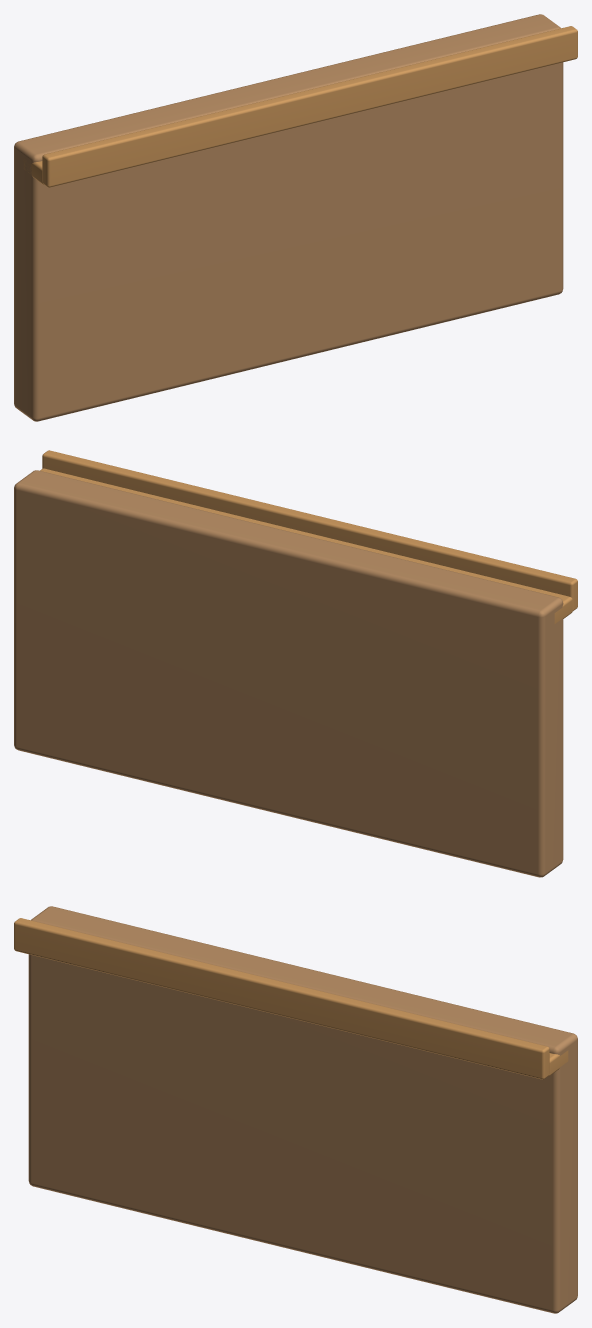
The model's file is perfil-latao.glb.
3 renders of one model, top to bottom at view 1: azimuth 30°, elevation 25°; view 2: azimuth 150°, elevation 25°; view 3: azimuth 330°, elevation 25°, orthographic.
Parts seen in each view (by area): view 1: Frente amadeirada, Aba de pega; view 2: Frente amadeirada, Aba de pega, Perfil de encaixe; view 3: Frente amadeirada, Aba de pega.
Part boxes in pixels (x1,y1,x2,y2): Frente amadeirada: (14, 14, 563, 421); Aba de pega: (42, 26, 577, 187); Frente amadeirada: (14, 470, 563, 877); Aba de pega: (42, 450, 577, 610); Perfil de encaixe: (40, 468, 572, 623); Frente amadeirada: (28, 906, 577, 1313); Aba de pega: (14, 918, 549, 1079).
Bounding box in the file's own units: 2.6 × 1.29 × 0.3065.
